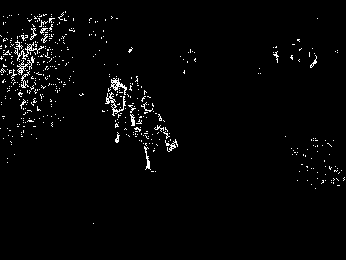person: (136, 94, 178, 176), (105, 74, 127, 145), (127, 74, 148, 136)
